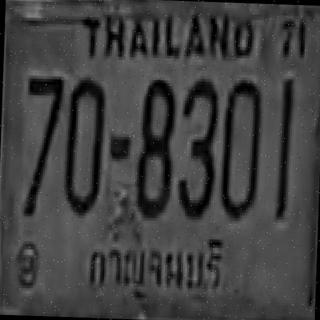N00: (218, 78, 262, 217), (63, 75, 105, 212)
N01: (274, 77, 292, 216)
N03: (175, 75, 217, 217)
N07: (22, 72, 62, 214), (23, 73, 62, 173)
N08: (134, 76, 176, 216)
P17: (82, 231, 234, 300)
